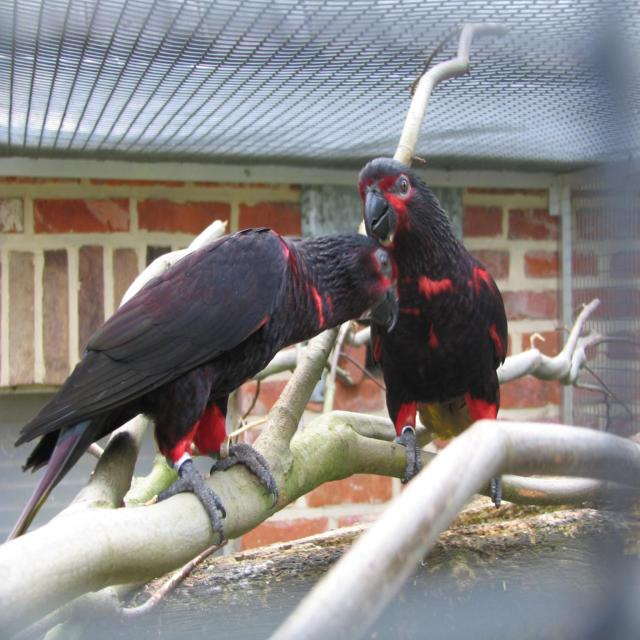Nuri Hitam: (4, 223, 412, 546), (341, 134, 528, 514)
